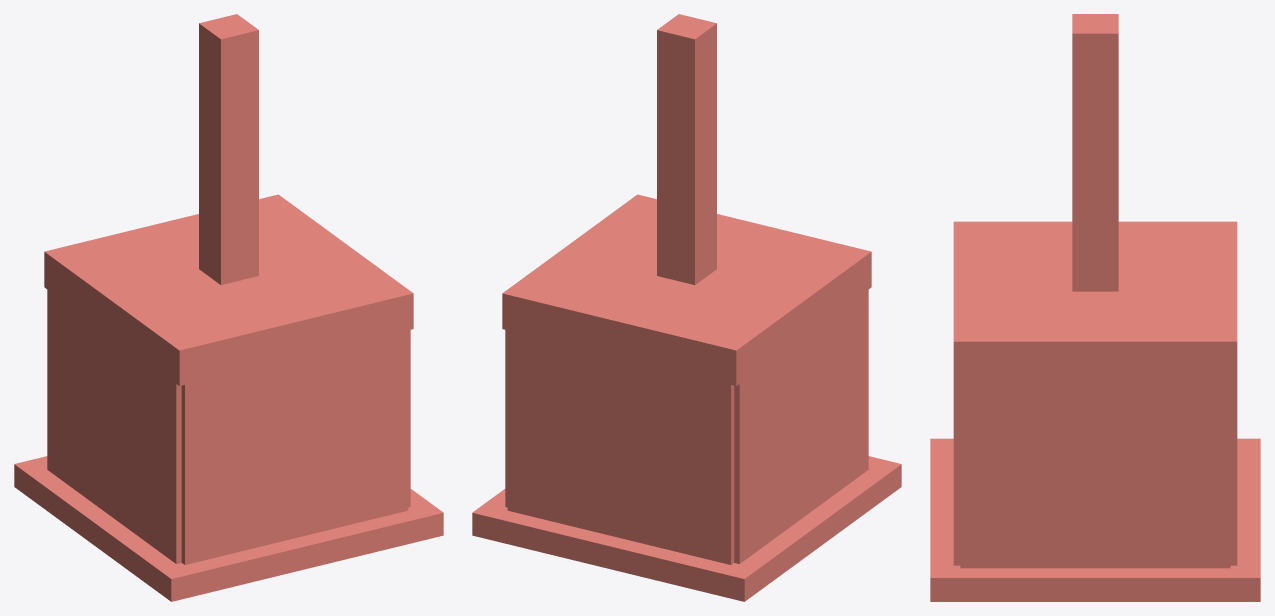
Rendered from sm_airdrop_crate.glb.
The picture shows the model from 3 angles, left to right: view 1: azimuth 30°, elevation 25°; view 2: azimuth 150°, elevation 25°; view 3: azimuth 270°, elevation 25°; orthographic projection. The views are drawn at different scales.
Visible parts, largest first — view 1: AirdropSupplyCrate; view 2: AirdropSupplyCrate; view 3: AirdropSupplyCrate.
Part boxes in pixels (left/top/right/bottom): AirdropSupplyCrate: left=14, top=14, right=443, bottom=601; AirdropSupplyCrate: left=472, top=14, right=901, bottom=601; AirdropSupplyCrate: left=930, top=14, right=1260, bottom=601.
Bounding box in the file's own units: 2 × 3.4 × 2.
